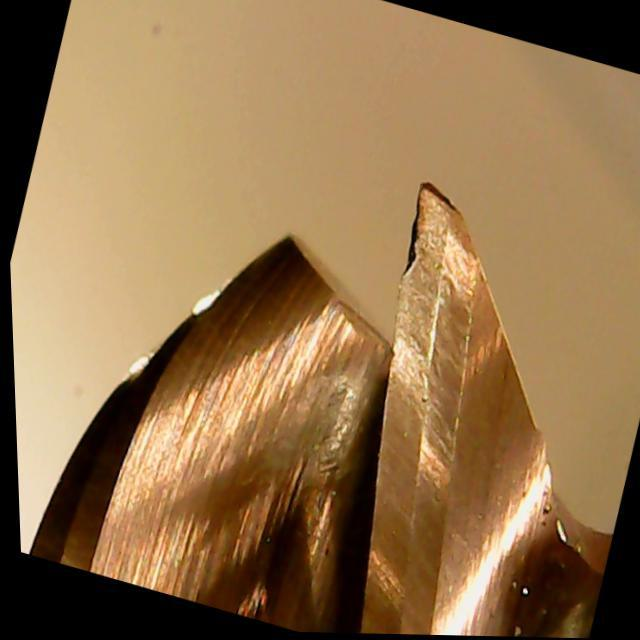Tool-wear-class-1: (333, 175, 527, 471)
